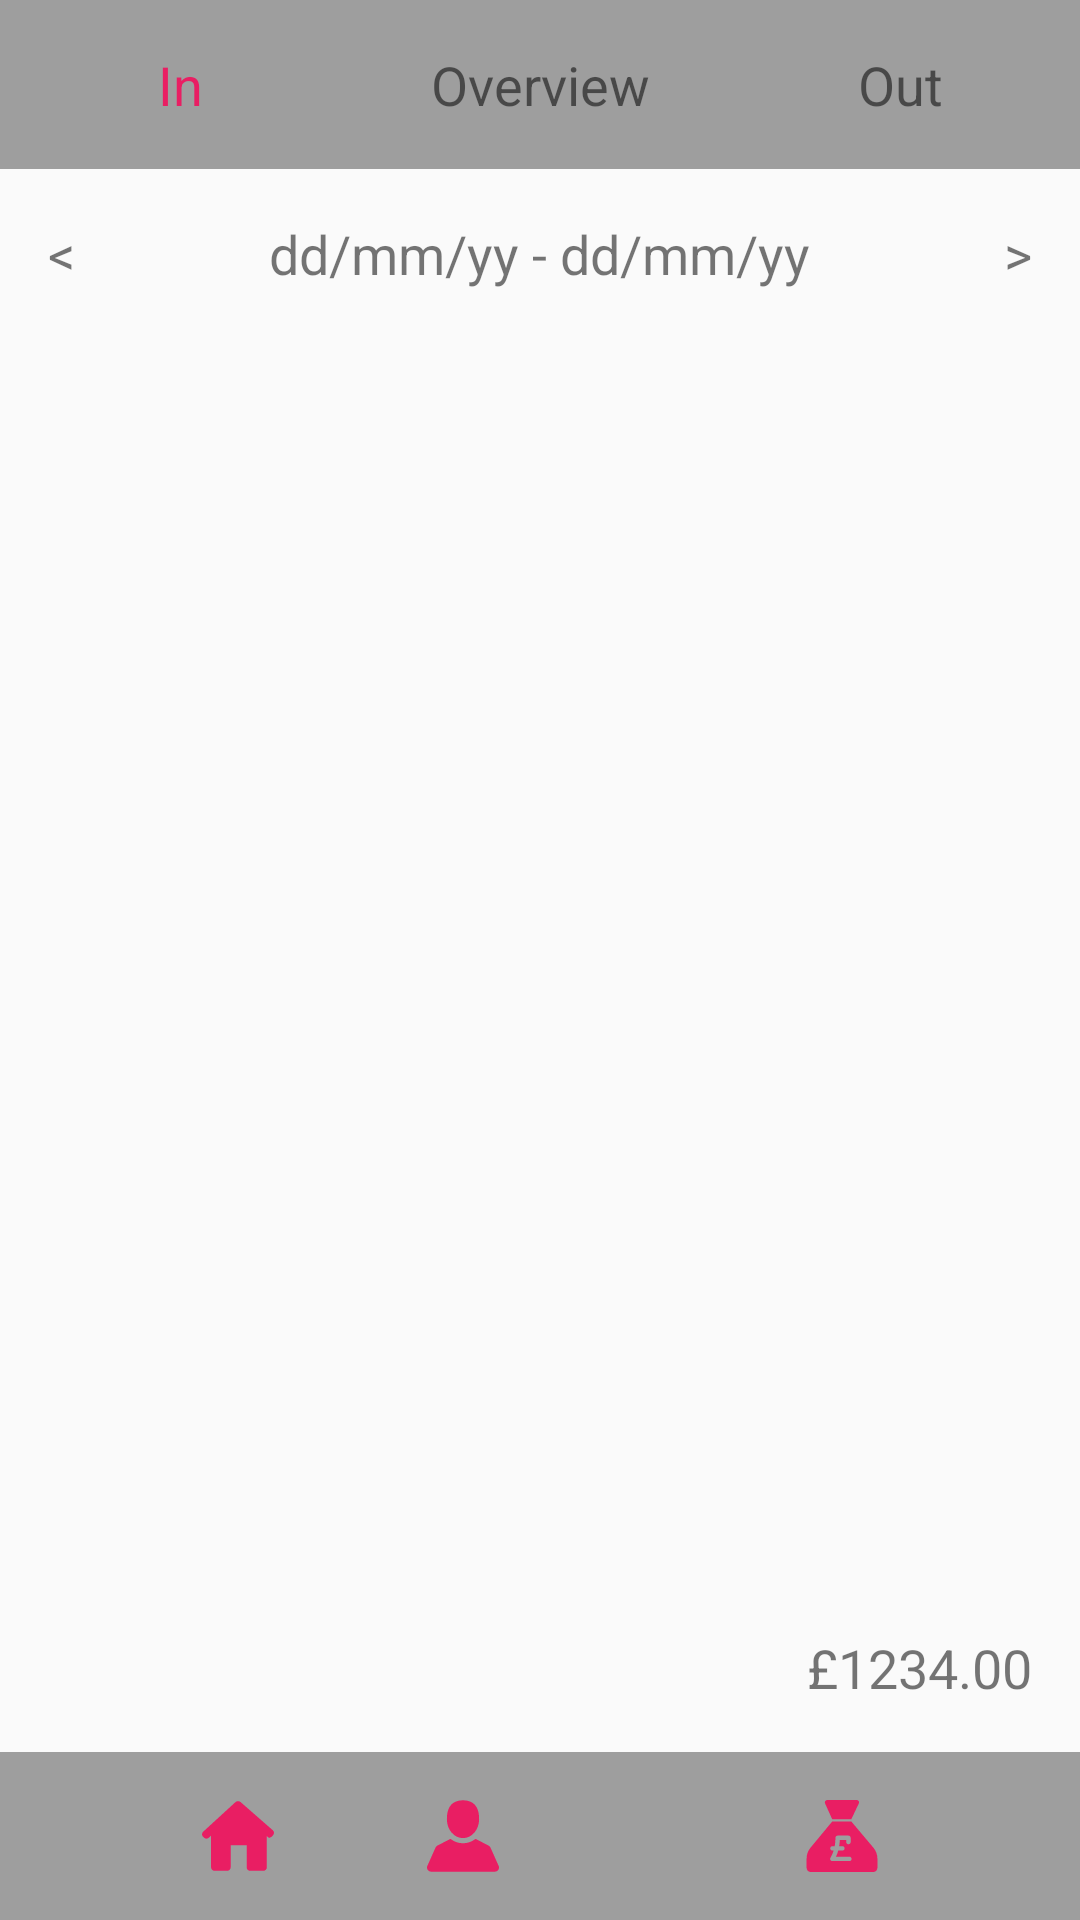

Icon bounding boxes for this 1080 x 1920 phone screenshot, format (x1, y1, x2, y2):
home: (202, 1801, 274, 1871)
money: (806, 1800, 878, 1872)
person: (427, 1800, 499, 1872)
